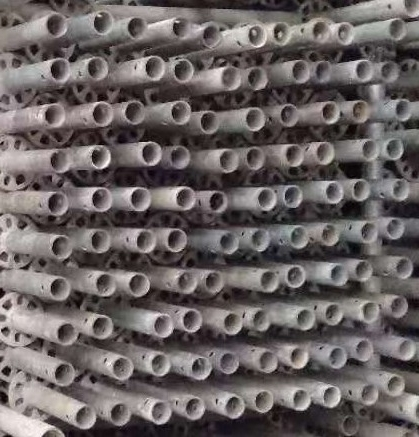circle_steel: (43, 11, 69, 38), (46, 57, 72, 84), (126, 187, 154, 212), (43, 102, 68, 129), (90, 100, 114, 128), (169, 99, 193, 127), (200, 21, 223, 50), (84, 55, 110, 80), (88, 188, 114, 213), (48, 235, 74, 260), (126, 272, 151, 298), (51, 361, 76, 387), (138, 140, 162, 167), (292, 306, 316, 333), (44, 191, 70, 215), (47, 276, 71, 302), (72, 403, 96, 429), (142, 55, 165, 82), (124, 99, 147, 126), (173, 186, 197, 211), (91, 315, 115, 340), (246, 23, 269, 49), (246, 66, 269, 92), (243, 107, 266, 133), (168, 144, 191, 170), (216, 148, 239, 174), (148, 399, 171, 425), (92, 9, 114, 36), (198, 109, 220, 136), (89, 227, 111, 254), (151, 312, 173, 339), (49, 149, 73, 173), (248, 228, 272, 252), (286, 226, 310, 250), (94, 273, 118, 297), (256, 269, 280, 293), (170, 15, 193, 40), (172, 58, 195, 83), (219, 66, 242, 91), (89, 145, 112, 170), (133, 229, 156, 254), (283, 264, 306, 289), (108, 402, 131, 427), (222, 394, 245, 419), (334, 21, 356, 47), (176, 270, 198, 296), (181, 308, 203, 334), (379, 59, 400, 86), (279, 102, 300, 129), (164, 229, 188, 252), (54, 321, 77, 345), (149, 353, 172, 377), (349, 99, 371, 124), (244, 146, 266, 171), (110, 357, 135, 379), (290, 59, 311, 85), (319, 100, 340, 126), (318, 222, 339, 248), (216, 231, 239, 254), (383, 373, 406, 396), (270, 22, 292, 46), (313, 141, 335, 165), (206, 190, 228, 214), (255, 187, 277, 211), (282, 185, 304, 209), (202, 270, 224, 294), (357, 382, 379, 406), (311, 20, 332, 45), (385, 17, 406, 42), (388, 294, 409, 319), (184, 396, 205, 421), (252, 389, 273, 414), (319, 384, 340, 409), (218, 350, 238, 376), (126, 16, 148, 39), (283, 143, 305, 166), (323, 181, 345, 204), (327, 263, 349, 286), (221, 312, 243, 335), (256, 350, 278, 373), (392, 98, 413, 122), (349, 178, 370, 202), (384, 216, 405, 240), (359, 300, 380, 324), (190, 356, 211, 380), (352, 338, 373, 362), (291, 388, 312, 412), (359, 138, 380, 161), (288, 346, 309, 369), (323, 302, 343, 326), (327, 346, 347, 370), (354, 58, 373, 83), (385, 136, 404, 161), (251, 308, 270, 333), (388, 179, 410, 200), (339, 414, 360, 436), (359, 221, 379, 244), (353, 259, 373, 282), (394, 256, 413, 280), (396, 337, 415, 361), (313, 60, 331, 84), (399, 1, 419, 17), (38, 426, 67, 437)
